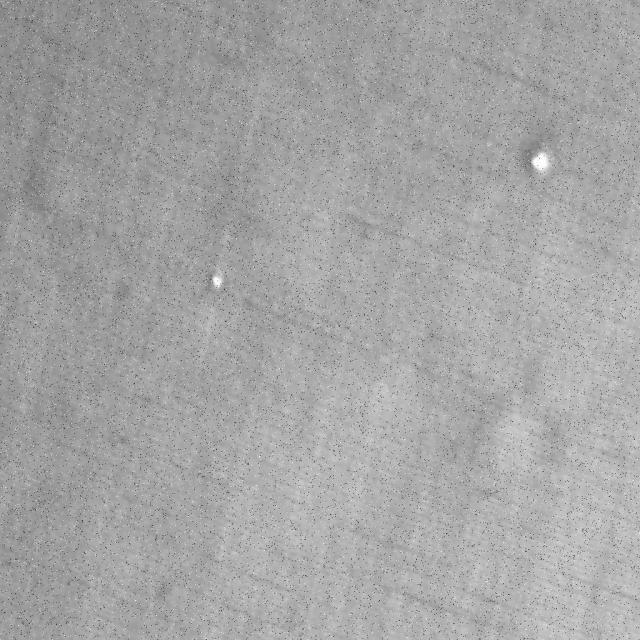other: (486, 100, 593, 212), (167, 226, 269, 331)
